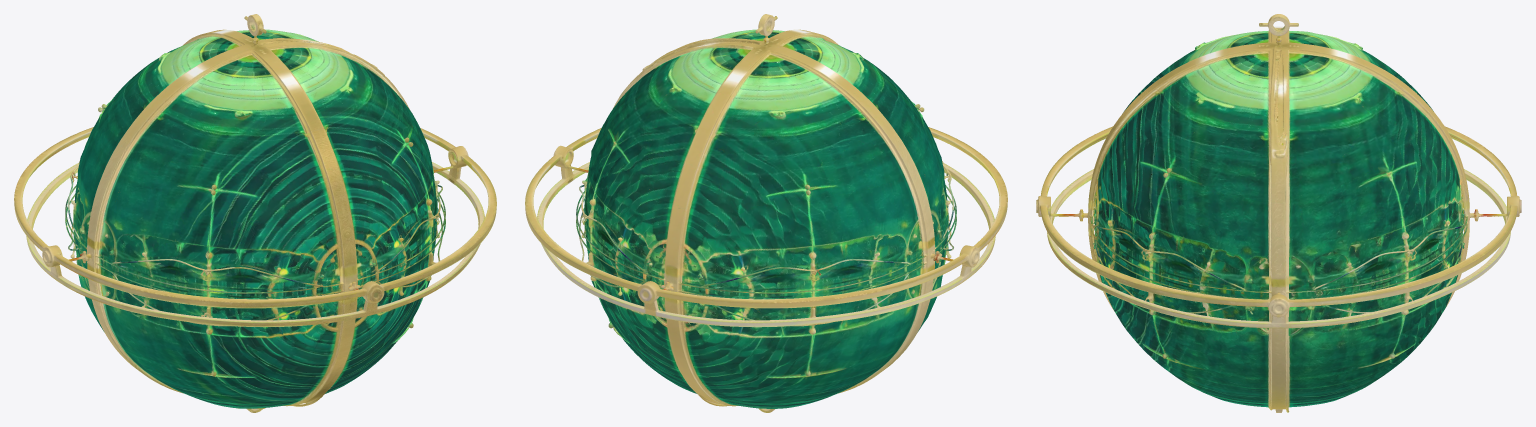
The model's file is CinNova_AI_Core_v2.web.glb.
3 views of the same model, side by side, from view 1: azimuth 30°, elevation 25°; view 2: azimuth 150°, elevation 25°; view 3: azimuth 270°, elevation 25° (orthographic).
Bounding box in the file's own units: 1.9 × 1.71 × 1.9.
Materials: 1 (1 with a texture image).
